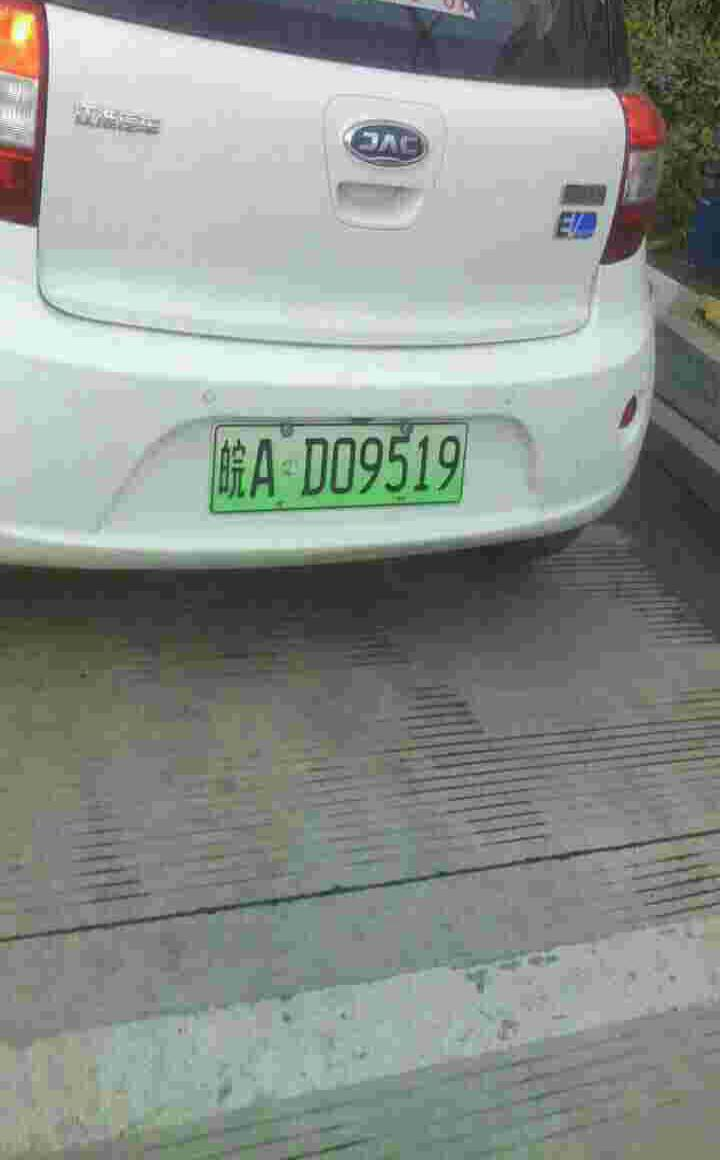car_green: (206, 422, 470, 515)
